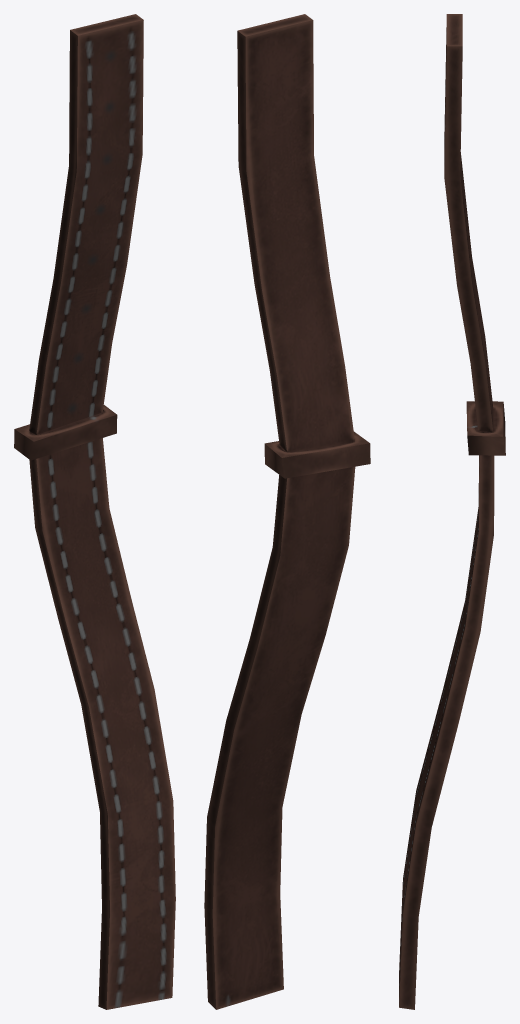
Rendered from BagStrapA.fbx.
3 views of the same model, side by side, from view 1: azimuth 30°, elevation 25°; view 2: azimuth 210°, elevation 25°; view 3: azimuth 270°, elevation 25° (orthographic). The views are drawn at different scales.
Parts seen in each view (by area): view 1: BagStrap_LOD0; view 2: BagStrap_LOD0; view 3: BagStrap_LOD0.
Part boxes in pixels (box(x1,y1,x2,y2)): BagStrap_LOD0: box(14, 14, 175, 1009); BagStrap_LOD0: box(204, 14, 370, 1009); BagStrap_LOD0: box(399, 14, 505, 1009).
Size of what is drawn, in the model's own units: 24.58 by 195 by 19.66.
